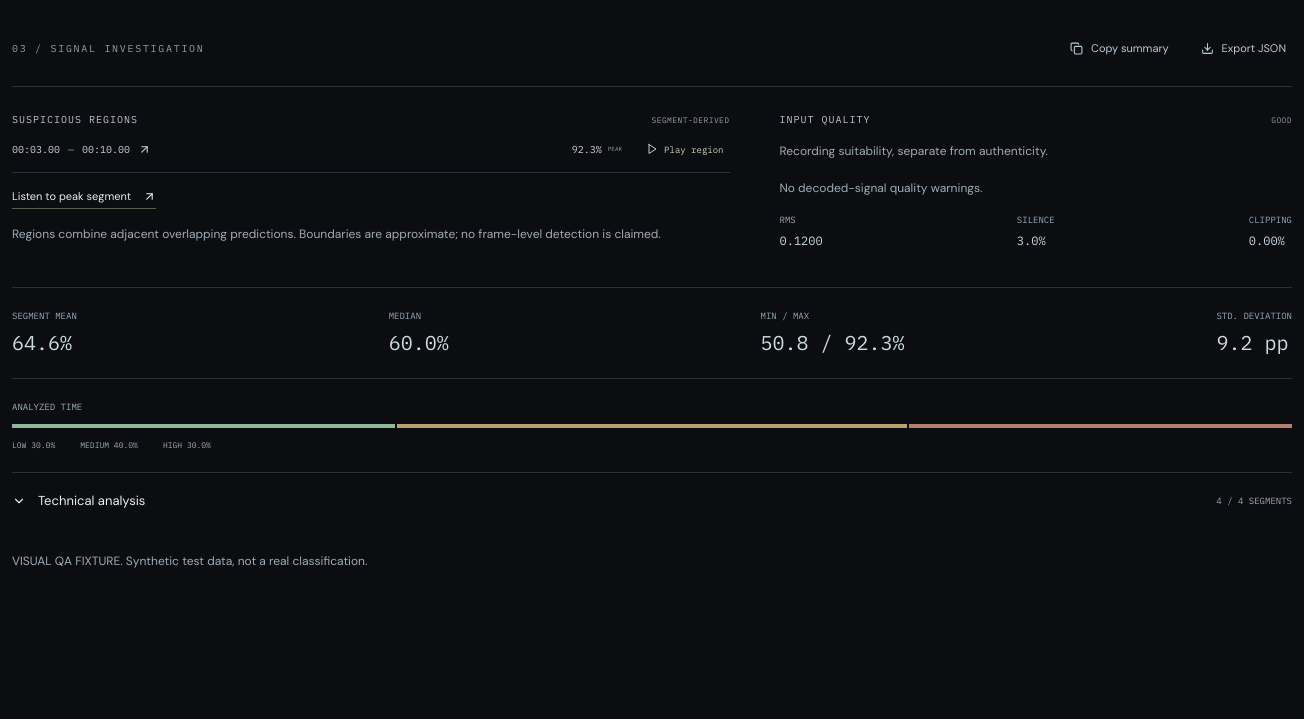
Test case: keeps diagnostics available behind accessible disclosure and acknowledges copied summaries
Click the button "Technical analysis 4 / 4 SEGMENTS" at (92, 501), box left=12, top=473, right=1292, bottom=529
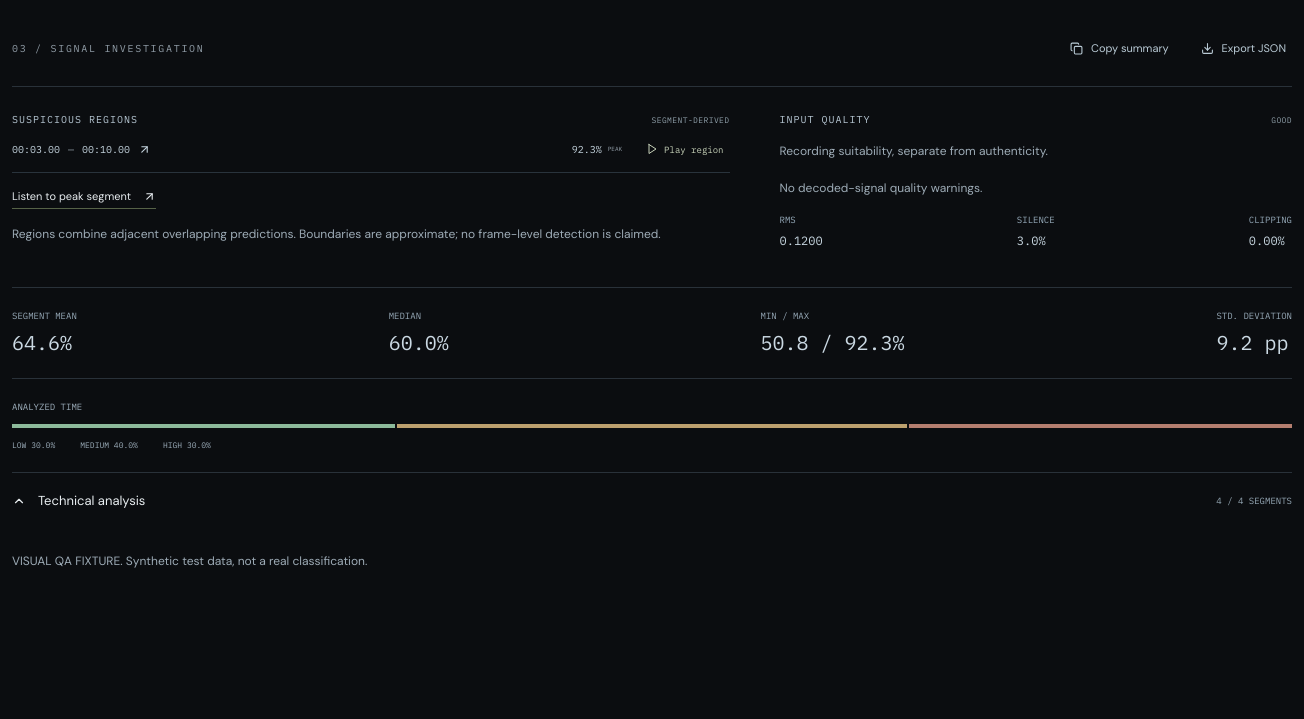
Now the button "Technical analysis 4 / 4 SEGMENTS" is expanded, box left=12, top=473, right=1292, bottom=529
Click the button "Copy summary" at (1119, 48), box left=1064, top=30, right=1175, bottom=66
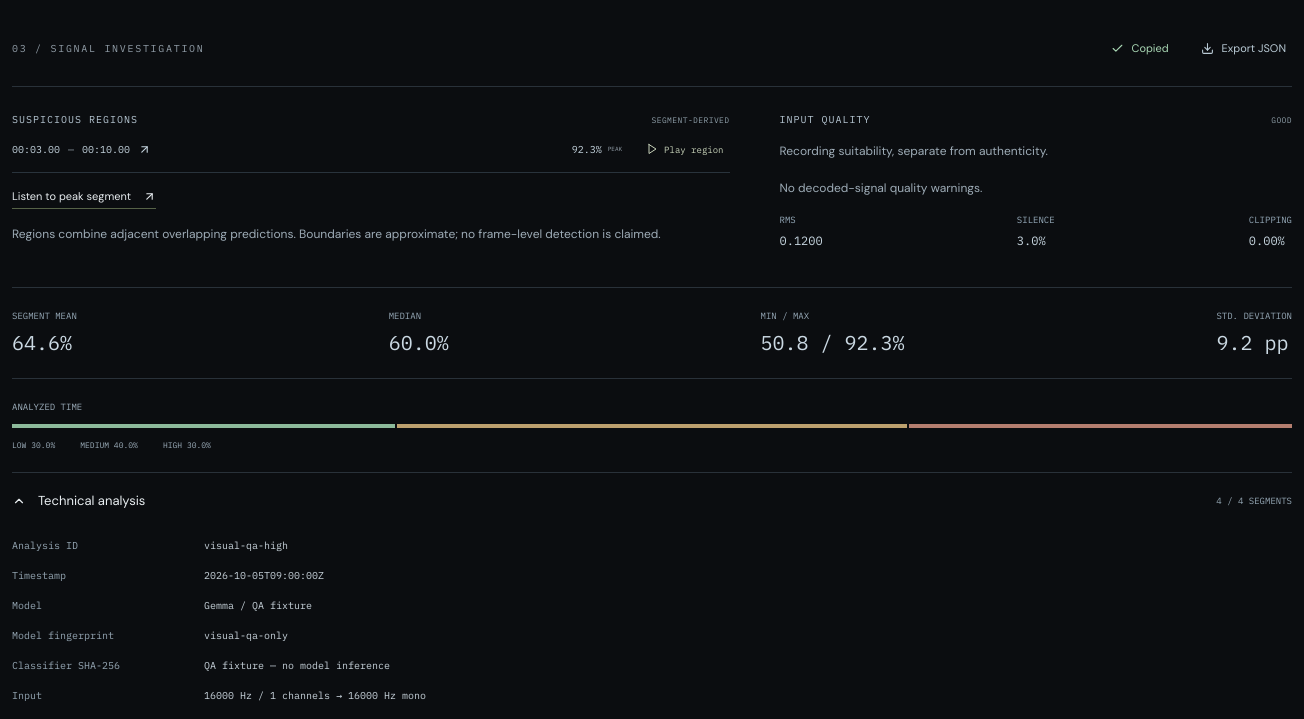
Now the button "Copied" is shown, box left=1104, top=30, right=1175, bottom=66
